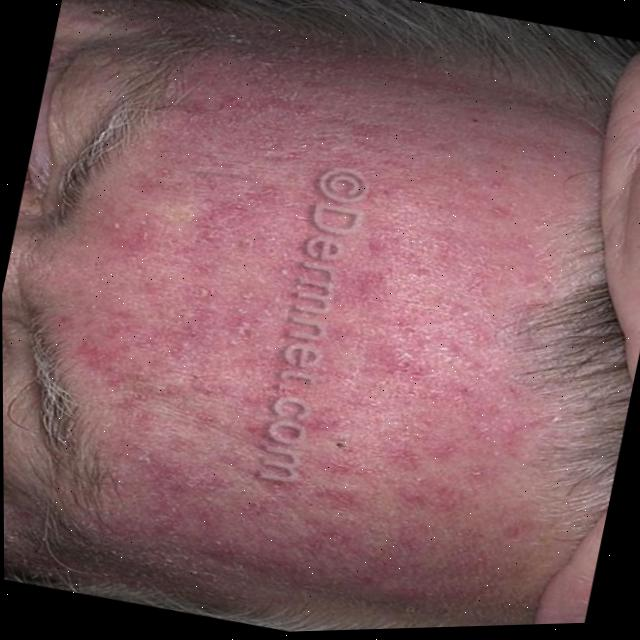Rosacea: (57, 8, 592, 624)
